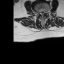CCS_severe_stenosis: (41, 10, 43, 18)
LFS_stenosis: (45, 10, 46, 14)
LLS_stenosis: (43, 10, 45, 15)
RFS_stenosis: (38, 10, 40, 15)
RLS_stenosis: (40, 10, 41, 15)
